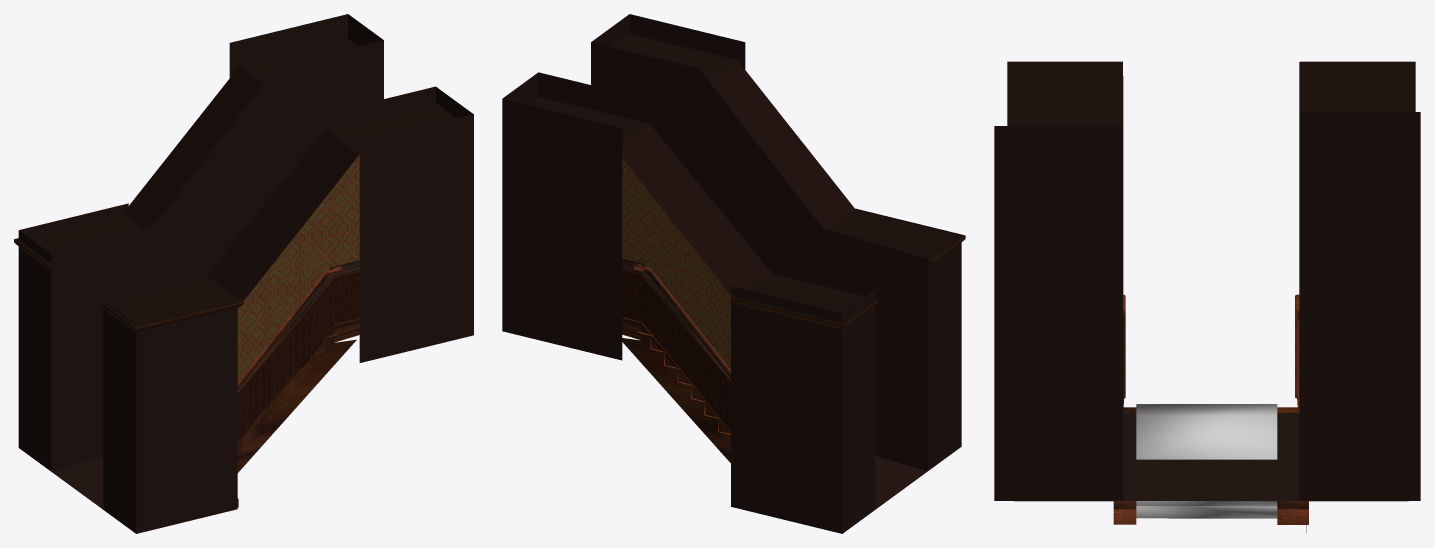
Rendered from StaircaseStrSmaller.fbx.
The picture shows the model from 3 angles, left to right: view 1: azimuth 30°, elevation 25°; view 2: azimuth 150°, elevation 25°; view 3: azimuth 270°, elevation 25°; orthographic projection. The views are drawn at different scales.
Parts seen in each view (by area): view 1: StaircaseStraightsmallerColMesh, StaircaseStraightSmaller; view 2: StaircaseStraightsmallerColMesh, StaircaseStraightSmaller; view 3: StaircaseStraightsmallerColMesh, StaircaseStraightSmaller.
Part boxes in pixels (x1=…): StaircaseStraightsmallerColMesh: x1=18, y1=14, x2=473, y2=533; StaircaseStraightSmaller: x1=14, y1=39, x2=456, y2=507; StaircaseStraightsmallerColMesh: x1=502, y1=14, x2=961, y2=533; StaircaseStraightSmaller: x1=528, y1=33, x2=965, y2=462; StaircaseStraightsmallerColMesh: x1=994, y1=62, x2=1420, y2=500; StaircaseStraightSmaller: x1=1007, y1=61, x2=1415, y2=532.
Size of the model in its own units: 627 by 626 by 407.
